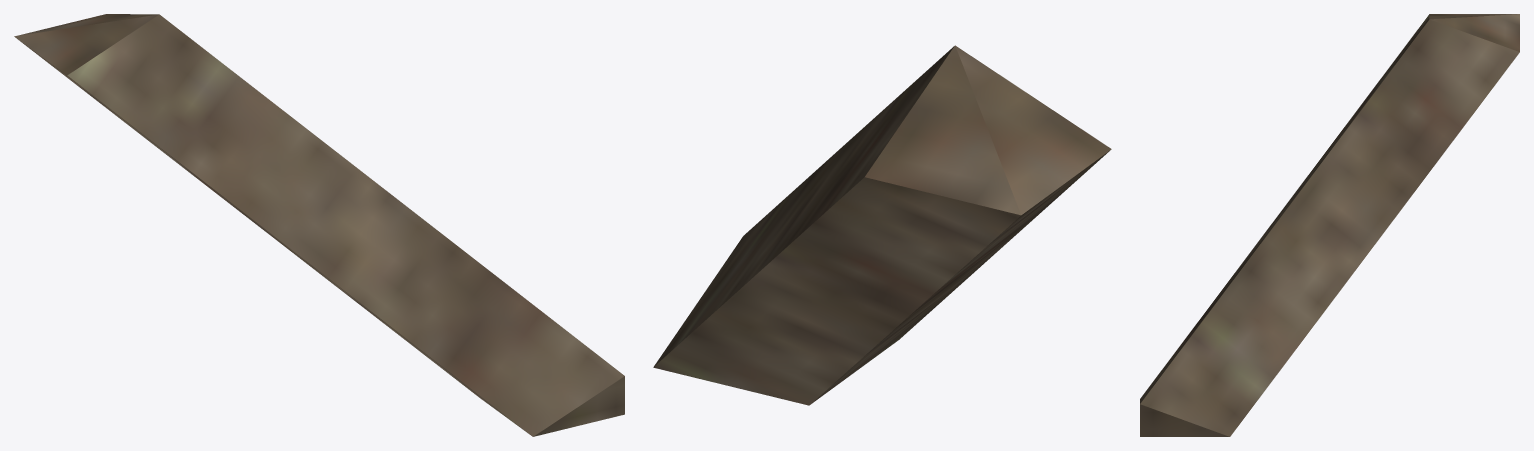
Rendered from whitebeam_thin_branch_45_diagonal.obj.
The picture shows the model from 3 angles, left to right: view 1: azimuth 30°, elevation 25°; view 2: azimuth 150°, elevation 25°; view 3: azimuth 270°, elevation 25°; orthographic projection. The views are drawn at different scales.
Visible parts, largest first — view 1: cube_selection; view 2: cube_selection; view 3: cube_selection.
Boxes of the visible parts, <box> form: cube_selection: <box>14,14,624,436</box>; cube_selection: <box>653,45,1111,405</box>; cube_selection: <box>1140,14,1519,436</box>.
Bounding box in the file's own units: 1.31 × 1.12 × 1.31.
